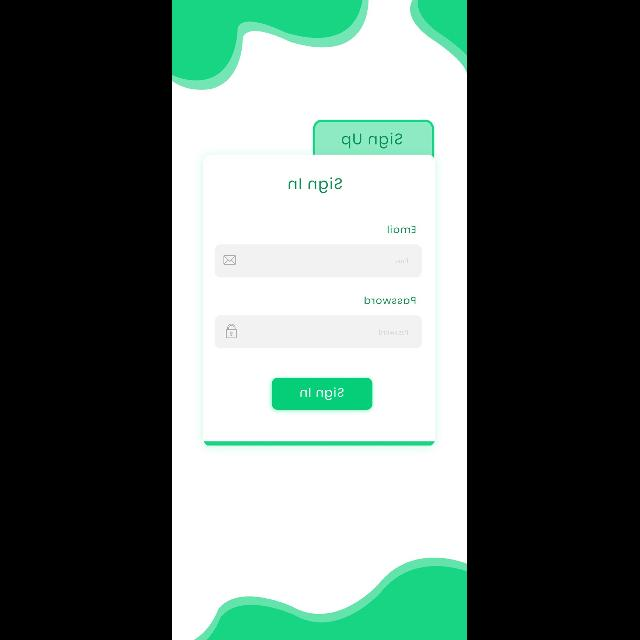icon: (226, 324, 238, 338), (224, 255, 236, 265)
input: (215, 245, 422, 278), (215, 316, 422, 348)
text: (289, 177, 343, 193), (366, 297, 416, 305), (388, 225, 416, 233), (379, 330, 408, 334), (392, 258, 408, 264)
textbutton: (313, 120, 435, 154), (272, 378, 373, 410)
